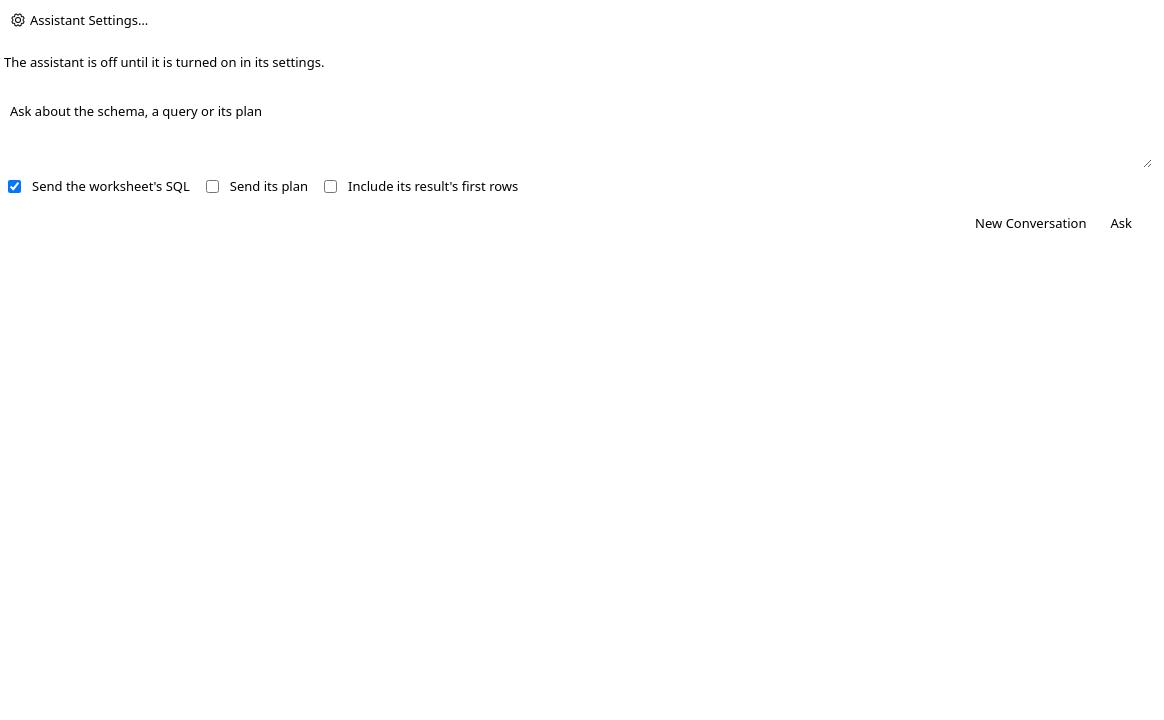
Test case: the assistant's panel › shows each turn's items, asks the user and answers, and starts over [DESIGN] D55
Later steps or results of the test are not shown.
Expected: the text "The assistant is off until it is turned on in its settings." is shown, [4,53,324,71]
In the text box named "Ask the assistant": [578, 134] box [4,100,1152,168], type " Why? "
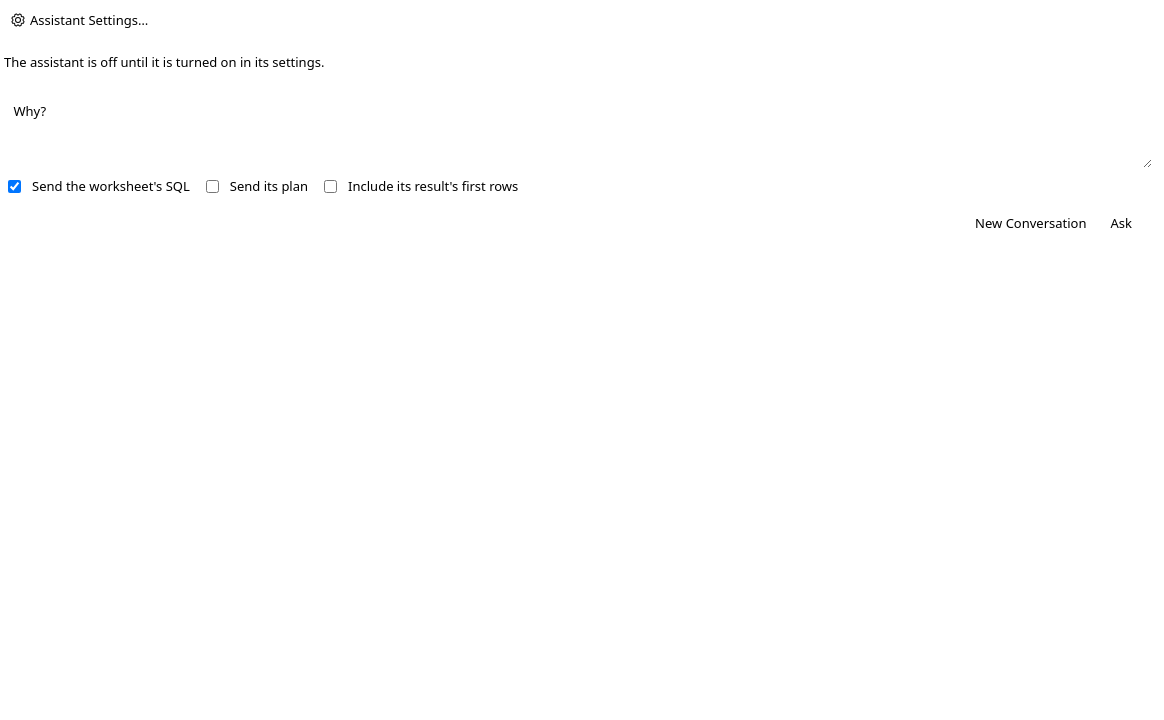
Click the checkbox labelled "Include its result's first rows": [331, 186] box [324,180,337,193]
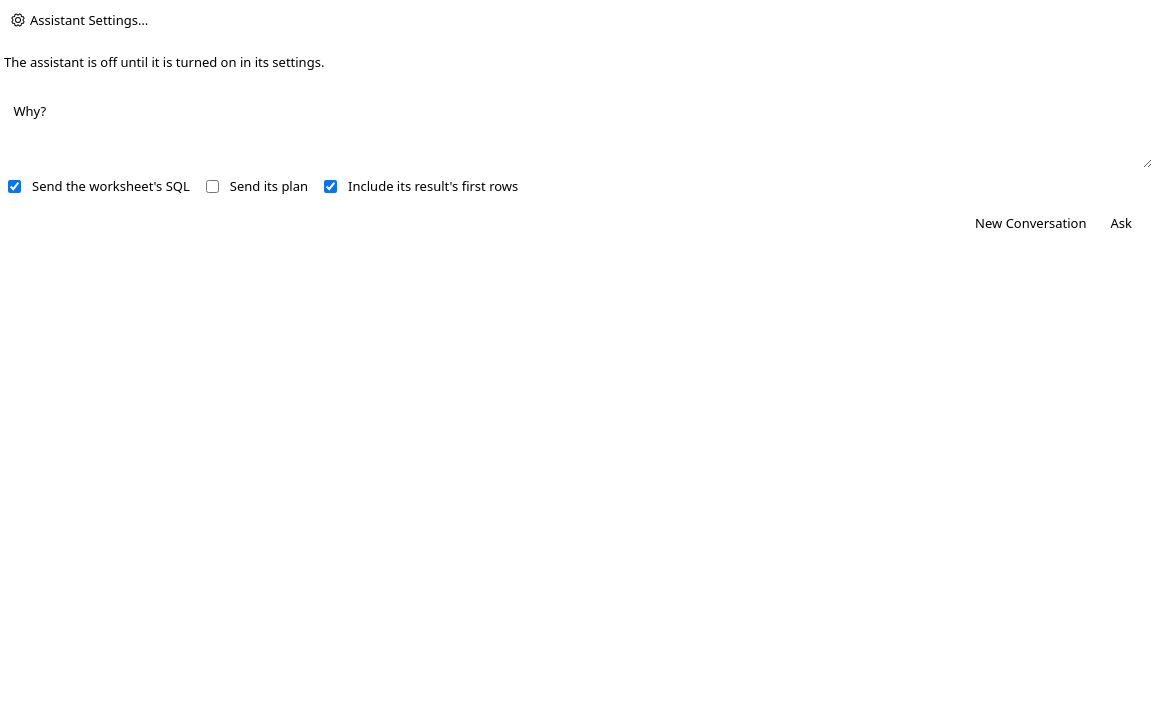
Click the button "Ask": [1121, 223] box [1102,212,1140,234]
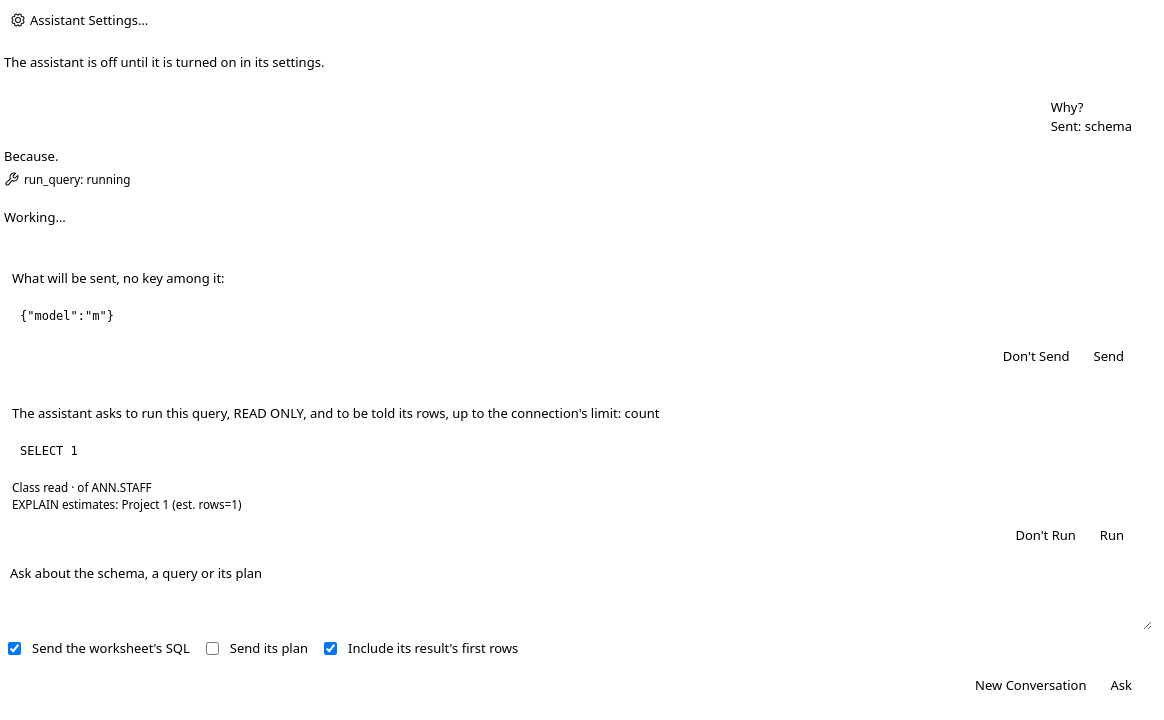
Expected: the text "Working…" is shown, [4,208,66,226]
Expected: the text "{\"model\":\"m\"}" is shown, [20,309,114,323]
Expected: the text "Class read · of ANN.STAFF" shows "EXPLAIN estimates: Project 1 (est. rows=1)", [12,496,242,512]
Click the button "Send": [1109, 356] box [1086,345,1132,367]
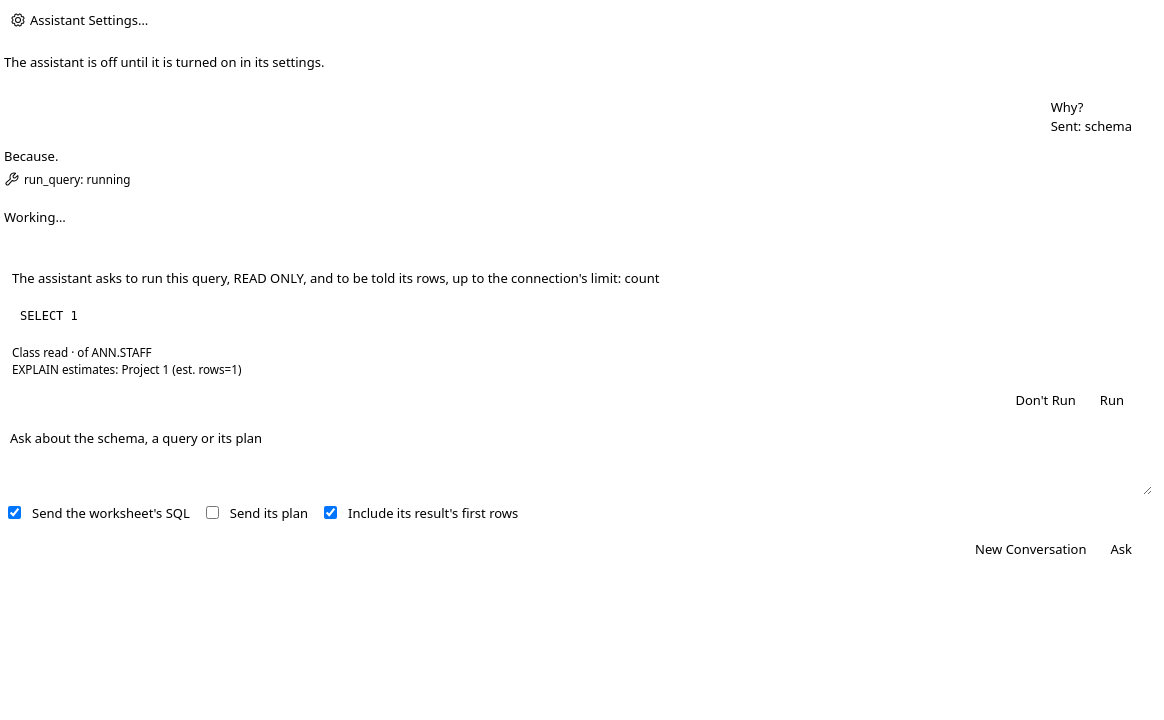
Click the button "Don't Run": [1046, 400] box [1007,389,1084,411]
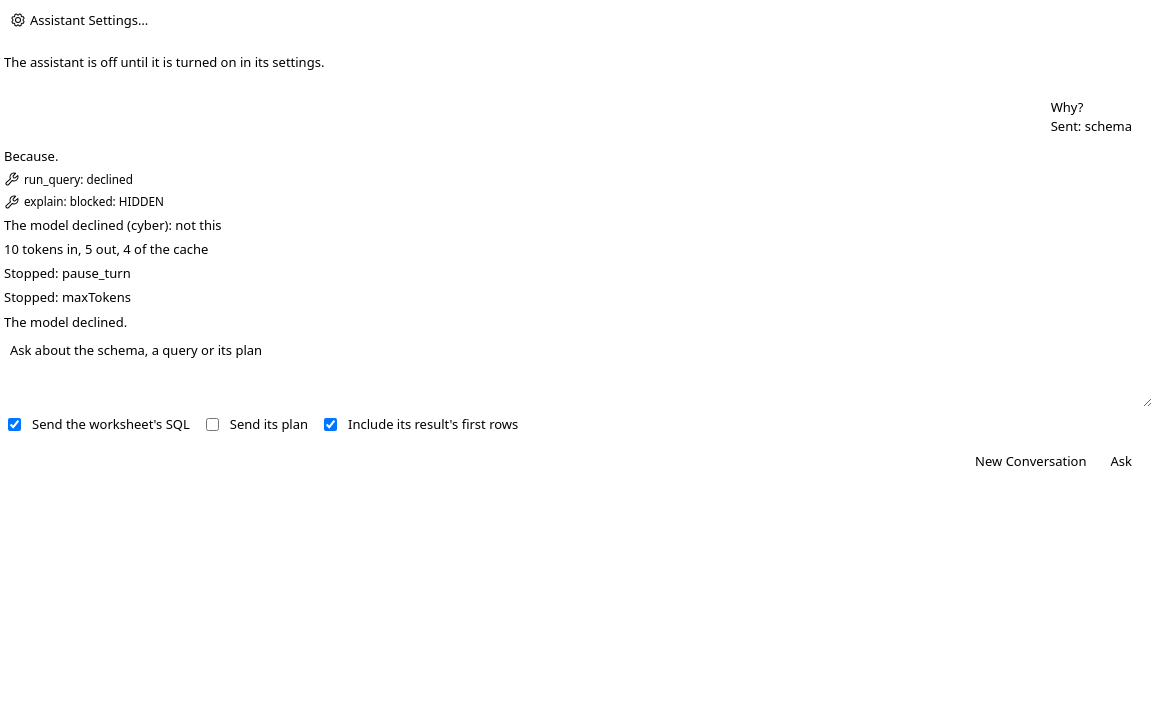
Expected: the list item "The model declined (cyber): not this" is shown, [4,216,222,234]
Expected: the list item "10 tokens in, 5 out, 4 of the cache" is shown, [4,240,208,258]
Expected: the list item "Stopped: pause_turn" is shown, [4,264,131,282]
